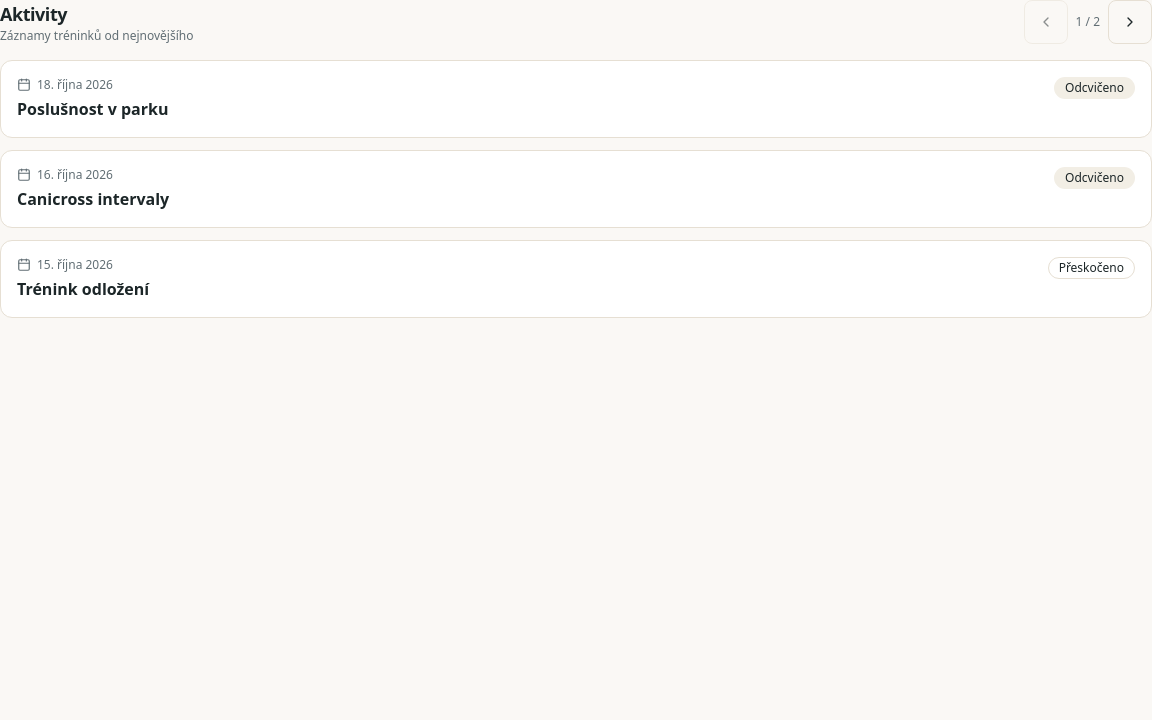
Test: DogActivitiesSection › opens detail dialog when workout record is clicked
Click the button with aria-label "otevřít detail aktivity poslušnost v parku".
click(75, 84)  # box [0, 60, 1151, 138]
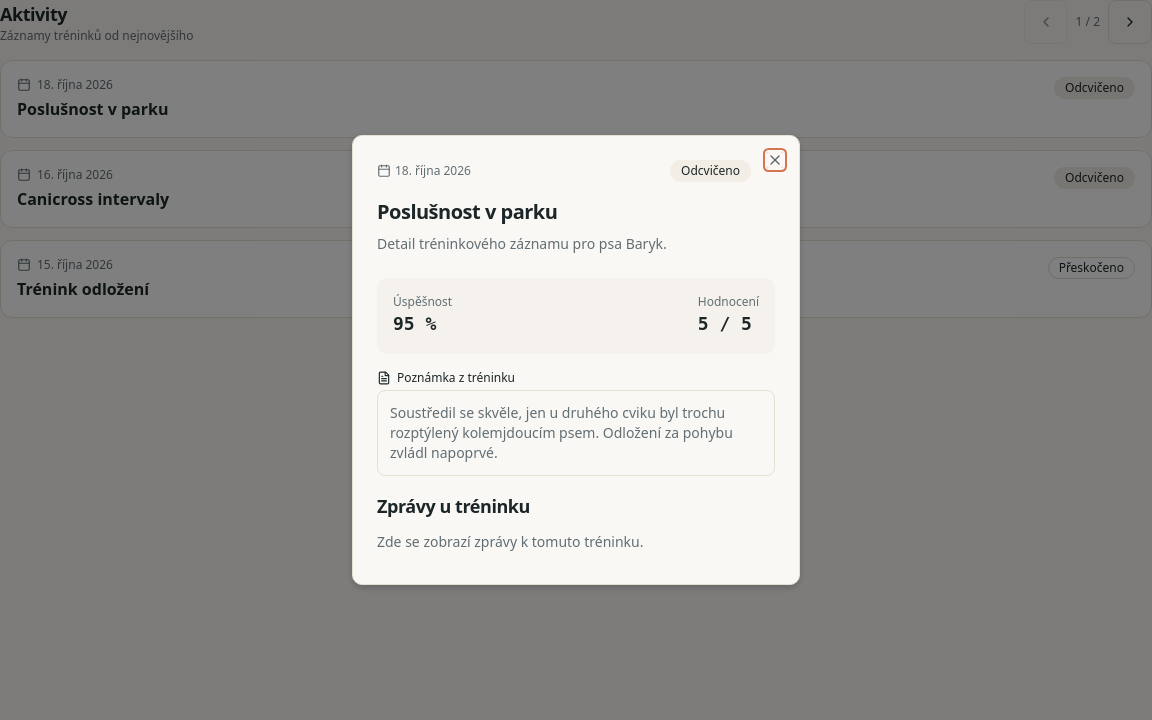
Expected: the dialog is shown, [352, 135, 800, 585]
Expected: the text "Detail tréninkového záznamu pro psa Baryk." is shown, [377, 234, 667, 253]
